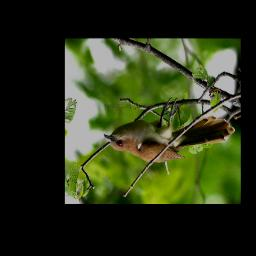Cuckoo: (103, 98, 236, 163)
